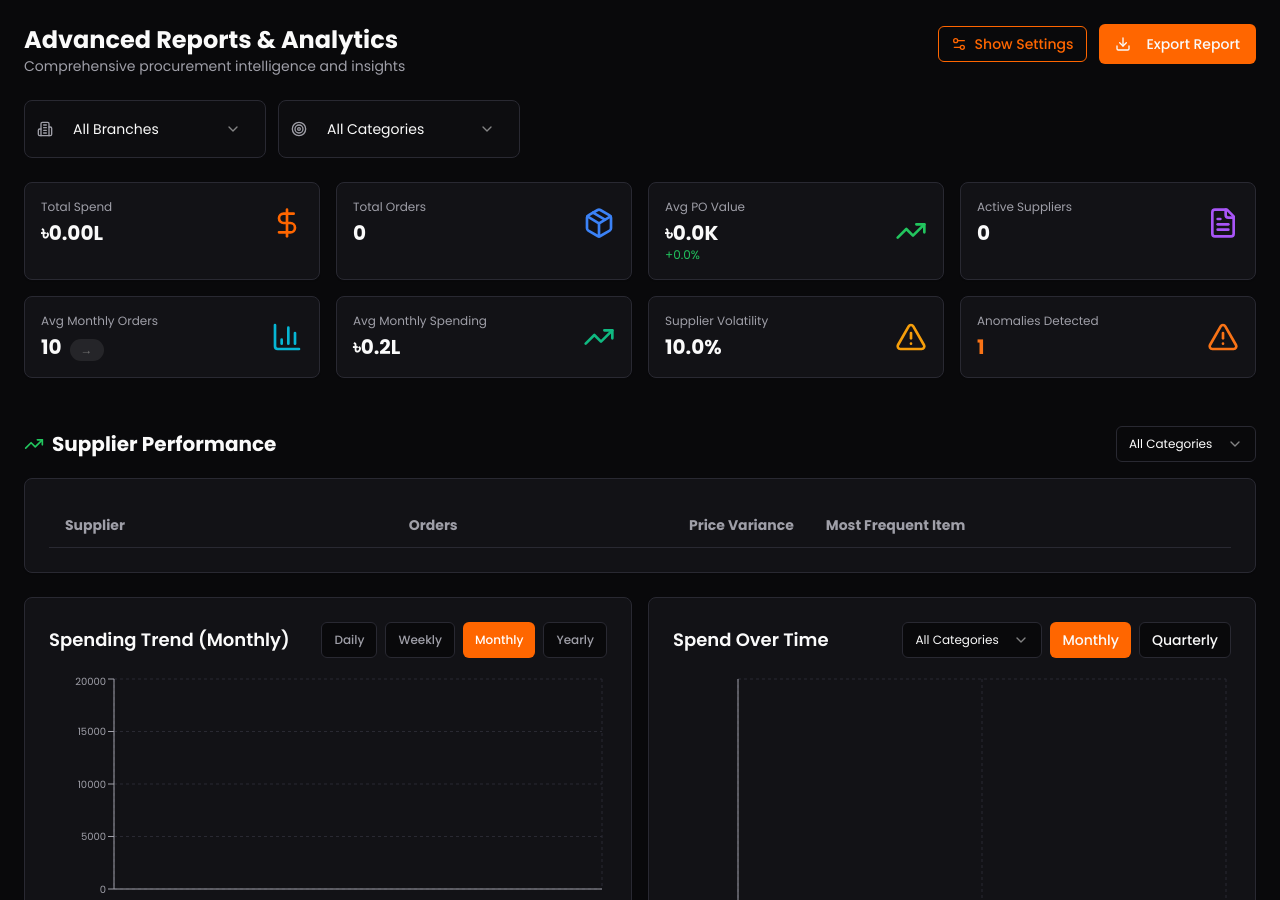
Test case: Reports Page (Section 7.3) › toggles view visibility settings
Later steps or results of the test are not shown.
Expected: the heading "Advanced Reports & Analytics" is shown, x1=24 y1=24 x2=405 y2=56
Find settings button
Click the button "Show Settings".
click(1012, 44)  # box x1=938 y1=26 x2=1086 y2=62
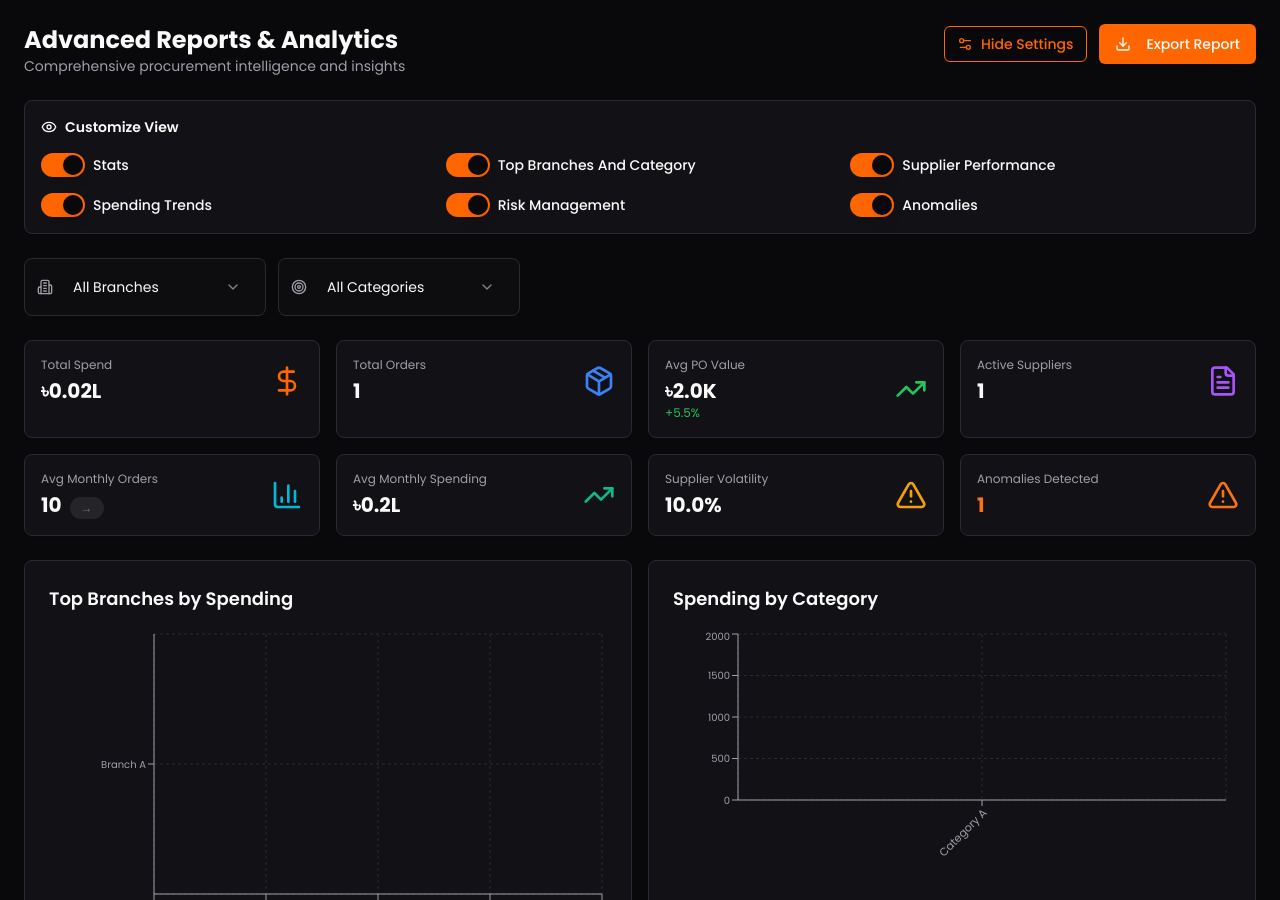
Expected: the heading "Customize View" is shown, x1=41 y1=117 x2=179 y2=137
